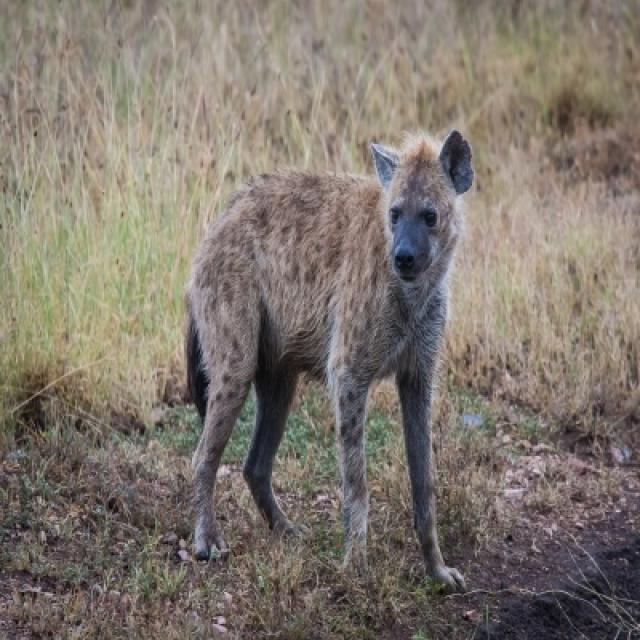hyena: (184, 133, 477, 592)
